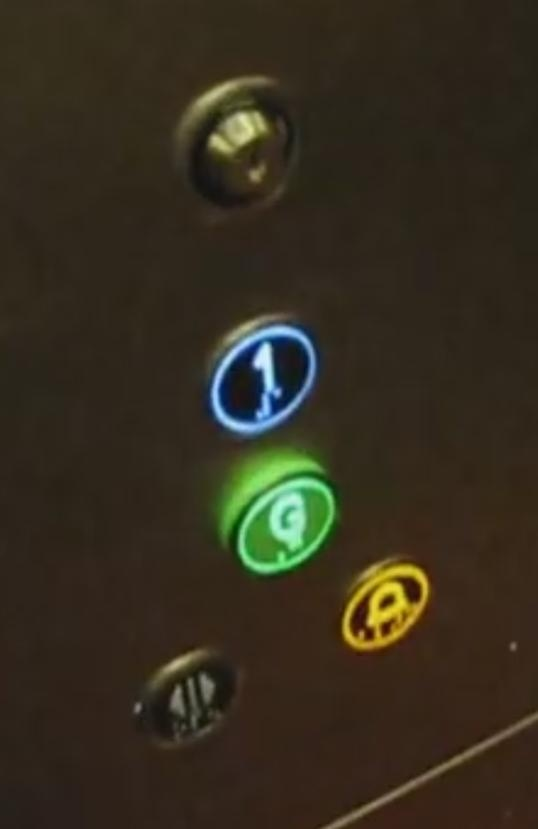1: (199, 309, 323, 440)
G: (219, 452, 349, 581)
alarm: (336, 551, 436, 656)
keyhole: (170, 70, 309, 224)
open: (128, 644, 246, 757)
